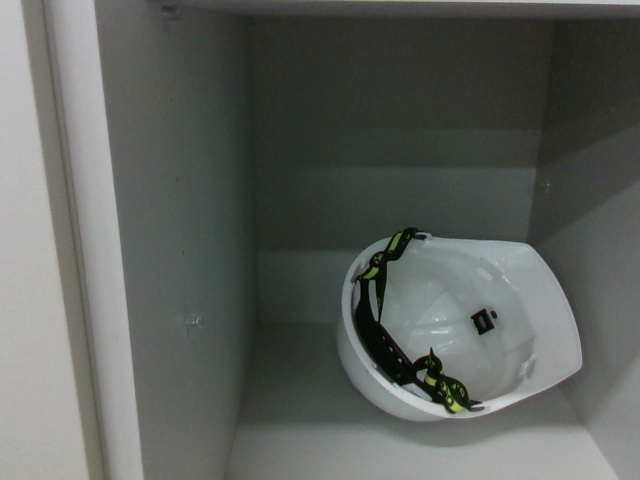helmet: (329, 226, 590, 430)
